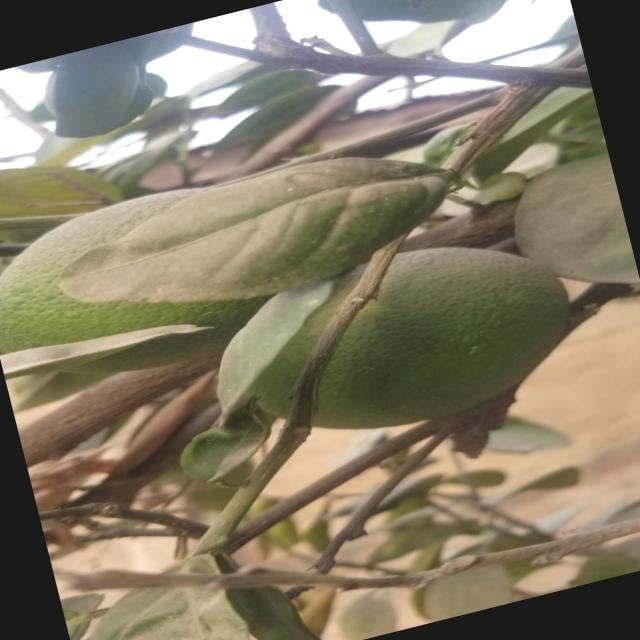agrume: (207, 218, 577, 462), (0, 152, 341, 392)
